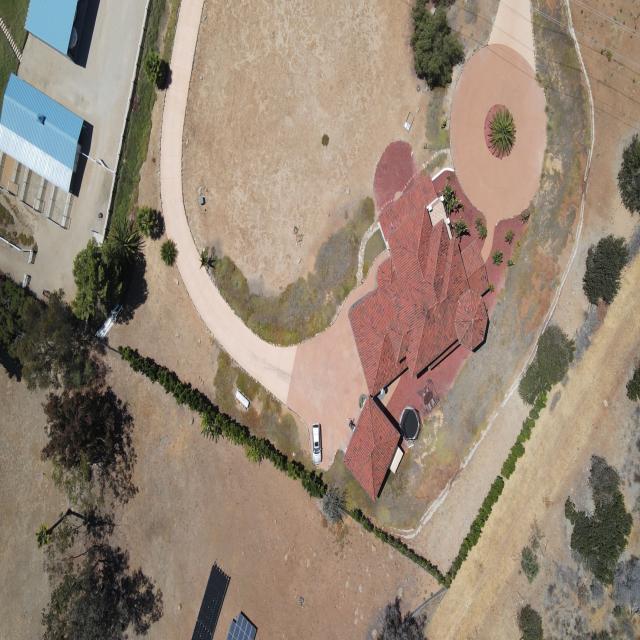solar-panels: (226, 611, 261, 640)
